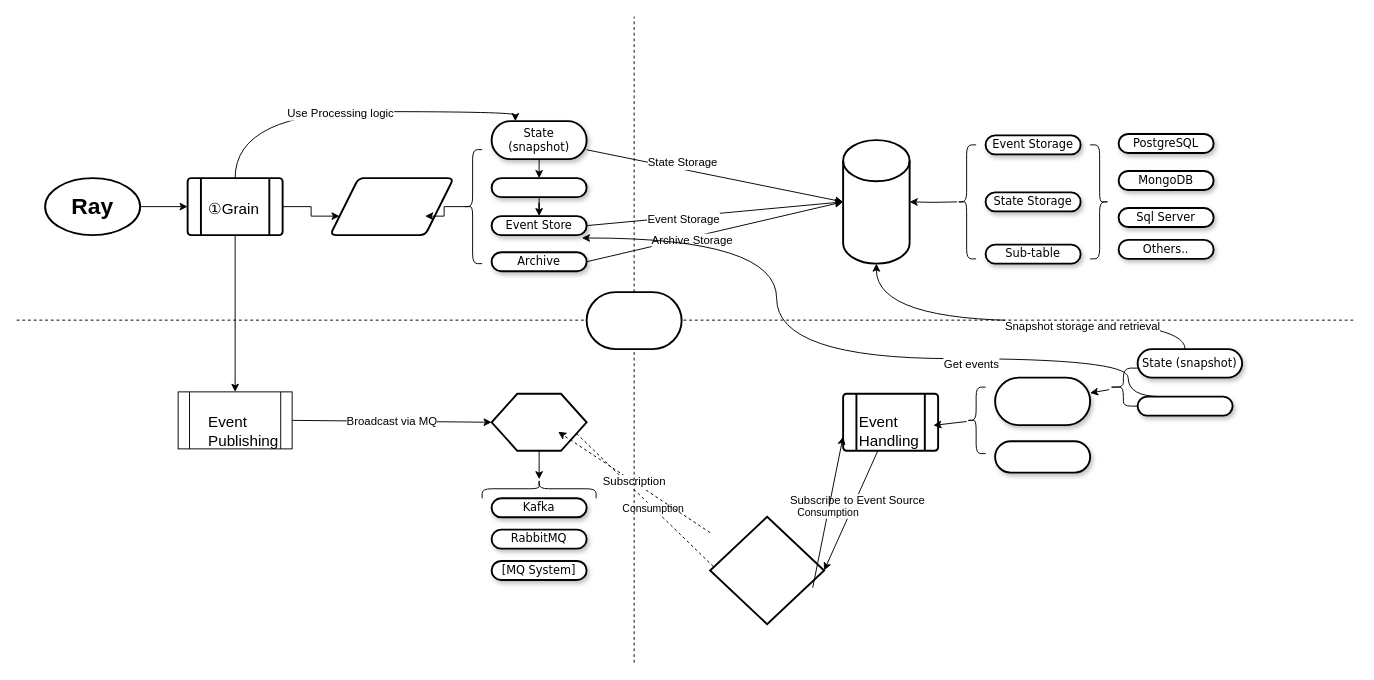
Image size: 1374x680. Some labels were removed from this diagram. Each missing label, with the centre of its shape:
"Addendum" goes at (x=1185, y=407).
"Broadcast Processing" goes at (x=1043, y=458).
"Dashboard" goes at (x=633, y=320).
"Event Bus" goes at (x=538, y=421).
"Event Scheduling" goes at (x=767, y=570).
"Event Tracing" goes at (x=539, y=188).
"Final Consistency Handling" goes at (x=1043, y=402).
"Storage" goes at (x=876, y=201).
"②Event Source" goes at (x=391, y=206).
